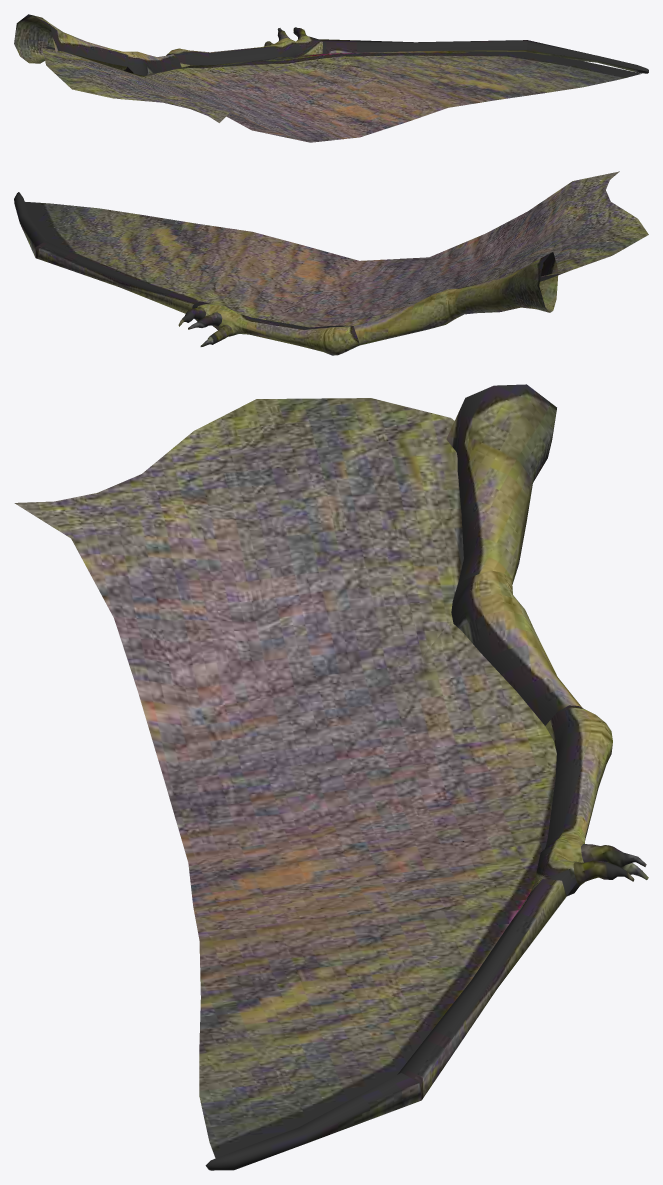
Rendered from D2_alaD.obj.
3 renders of one model, top to bottom at view 1: azimuth 30°, elevation 25°; view 2: azimuth 150°, elevation 25°; view 3: azimuth 270°, elevation 25°, orthographic. The views are drawn at different scales.
Parts seen in each view (by area): view 1: D2.002; view 2: D2.002; view 3: D2.002.
Part boxes in pixels (x1,y1,x2,y2): D2.002: (14,14,648,142); D2.002: (14,171,648,355); D2.002: (14,384,648,1170).
Size of the model in its own units: 28.03 by 6.36 by 13.73.
Materials: 1 (1 with a texture image).
